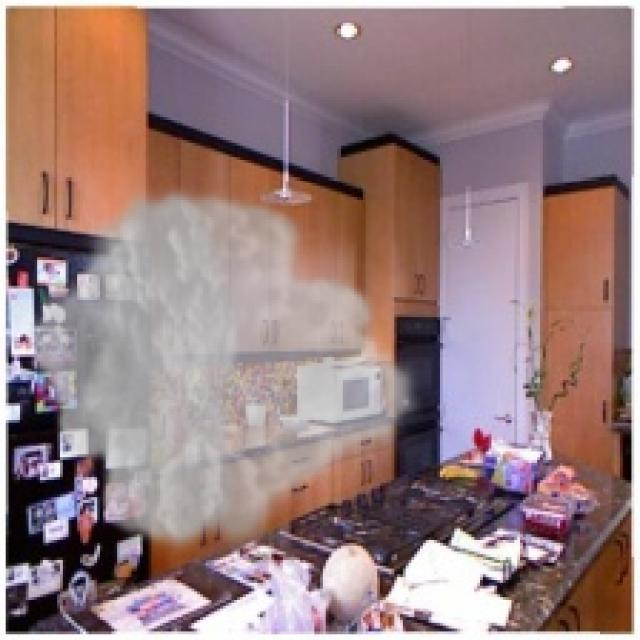Smoke: (26, 180, 423, 557)
